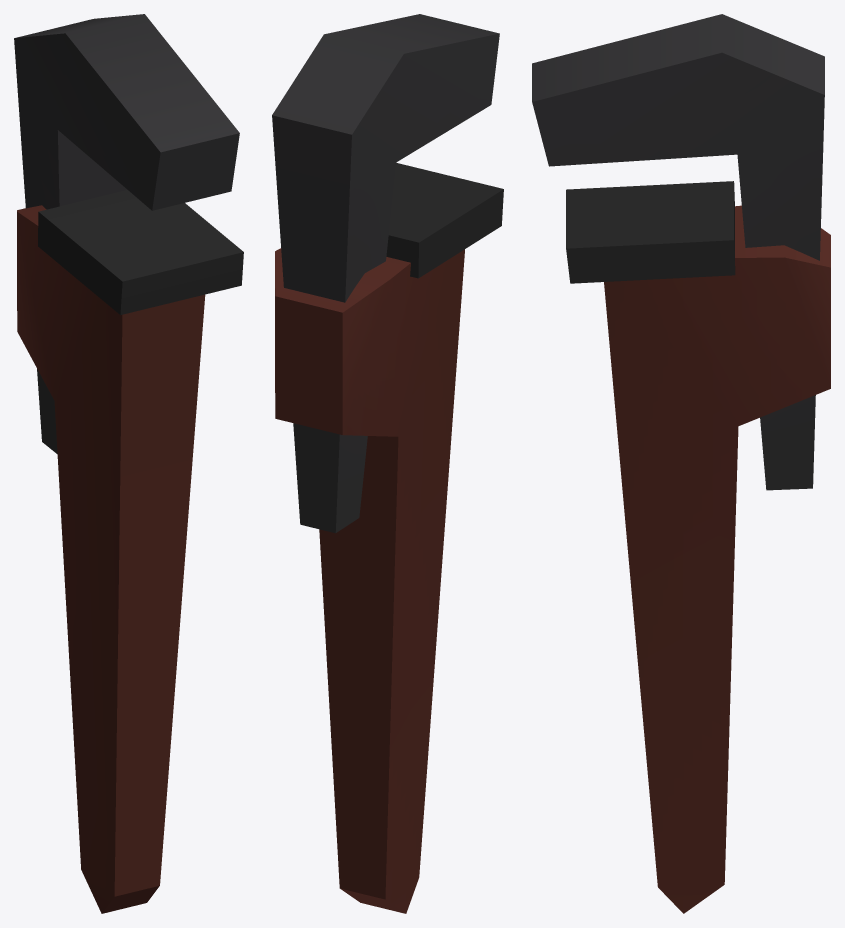
The model's file is w_heavywrench.FBX.
3 views of the same model, side by side, from view 1: azimuth 30°, elevation 25°; view 2: azimuth 150°, elevation 25°; view 3: azimuth 270°, elevation 25° (orthographic).
Parts seen in each view (by area): view 1: w_heavywrench; view 2: w_heavywrench; view 3: w_heavywrench.
Part boxes in pixels (left/top/right/bottom): w_heavywrench: left=14, top=14, right=243, bottom=913; w_heavywrench: left=272, top=14, right=503, bottom=913; w_heavywrench: left=532, top=14, right=830, bottom=913.
Size of the model in its own units: 5.89 by 40.4 by 12.58.
1 material, 1 textured.
